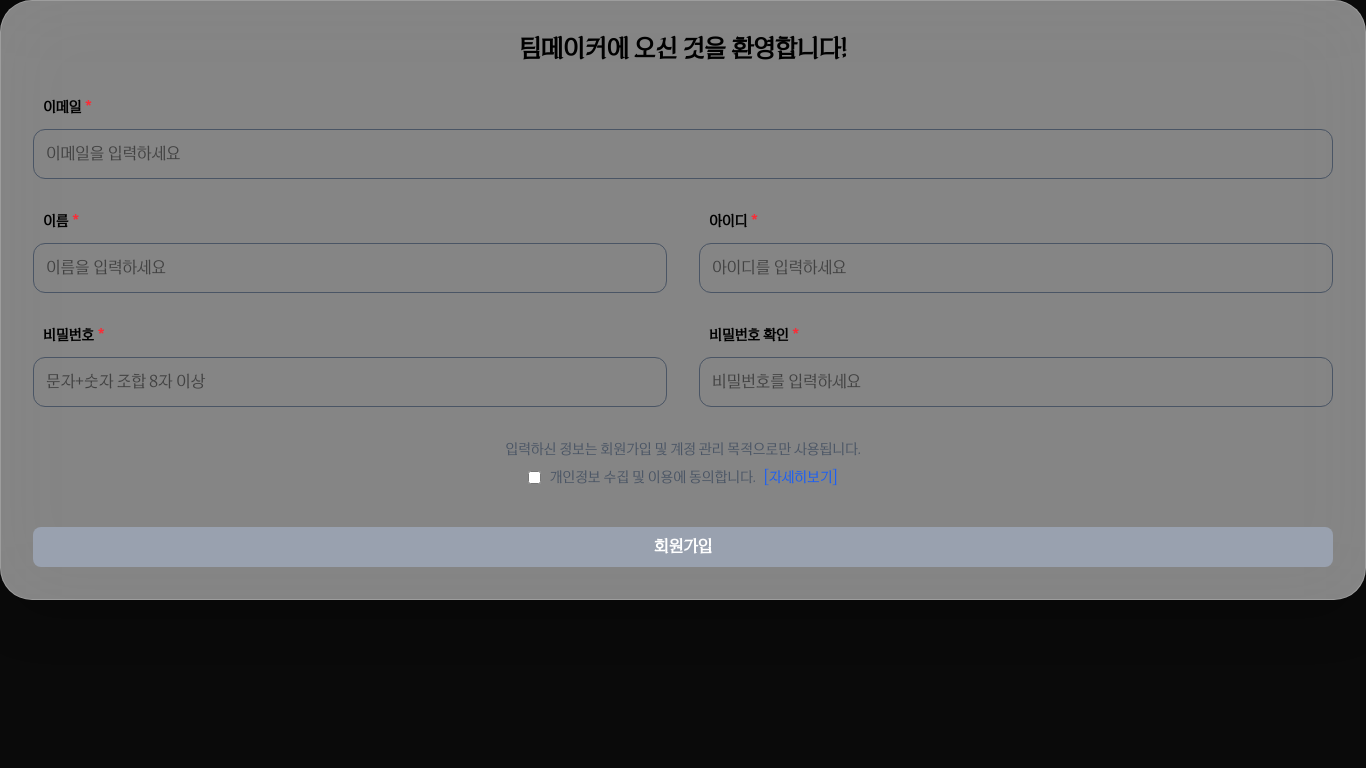
Test: SignUp Component › 잘못된 이메일 형식에 에러 메시지가 표시되어야 한다
The image size is (1366, 768).
Note: @ 포함하지만 형식이 잘못된 이메일 사용 (HTML5 validation 통과, pattern validation 실패)
Step 1. Type "invalid@email" into the field with placeholder "이메일을 입력하세요" → (683, 154), box x1=33 y1=129 x2=1333 y2=179
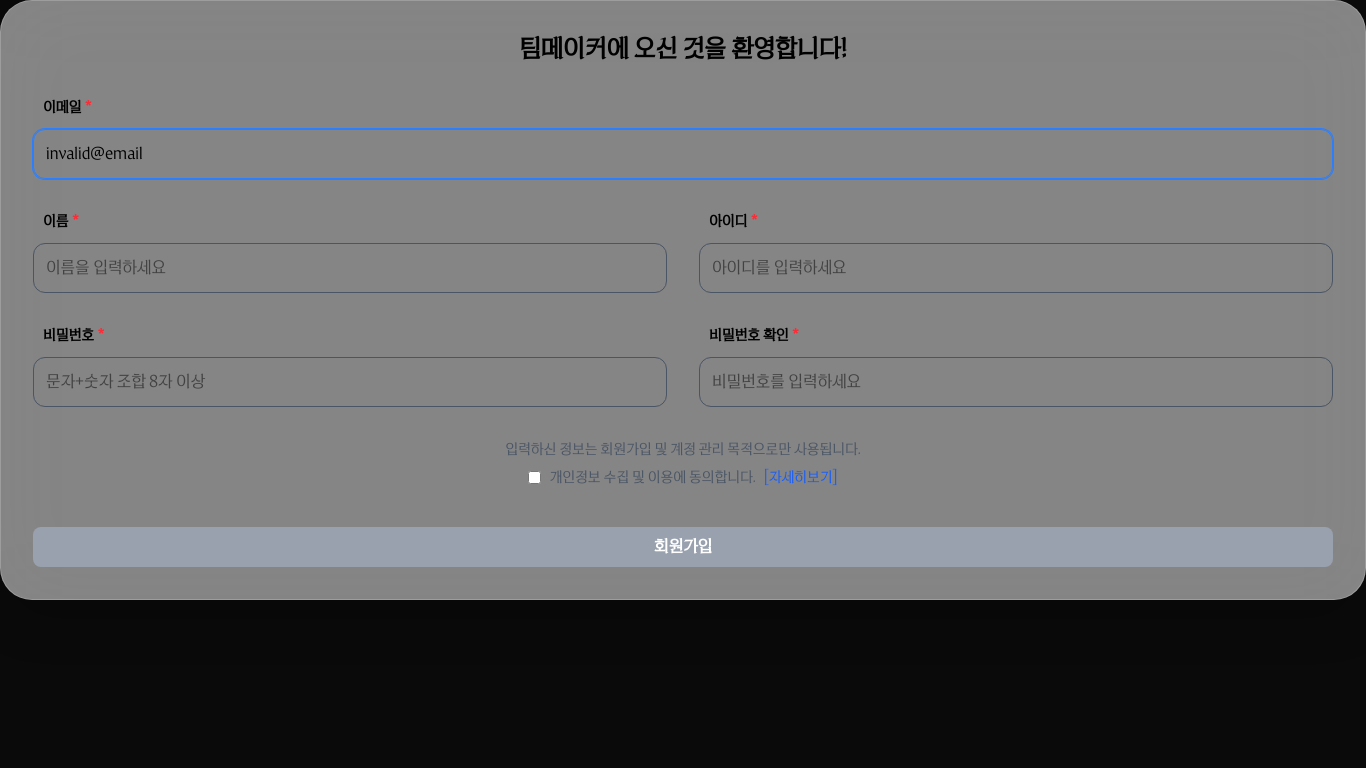
Note: 체크박스 체크 및 제출
Step 2. Click the checkbox → (535, 477), box x1=528 y1=470 x2=542 y2=484
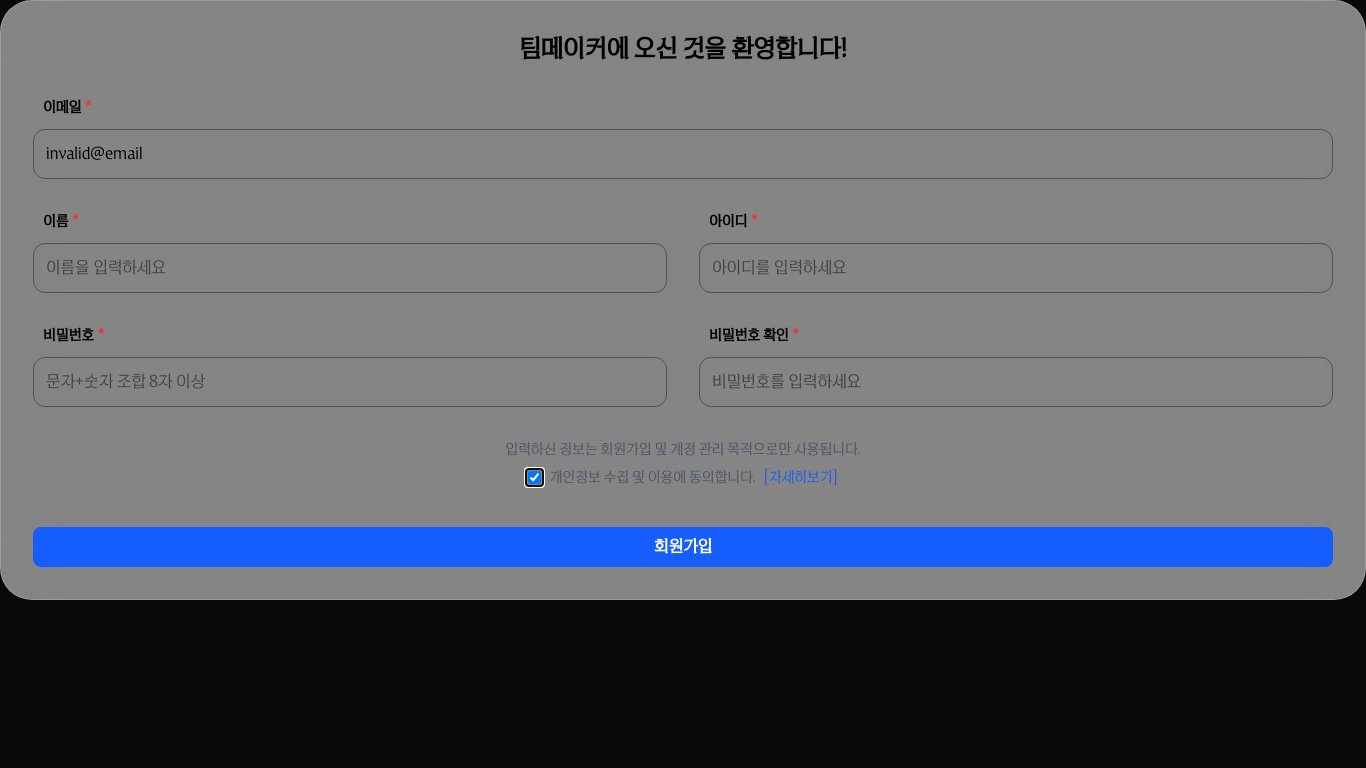
Step 3. Click the button "회원가입" → (683, 547), box x1=33 y1=527 x2=1333 y2=567
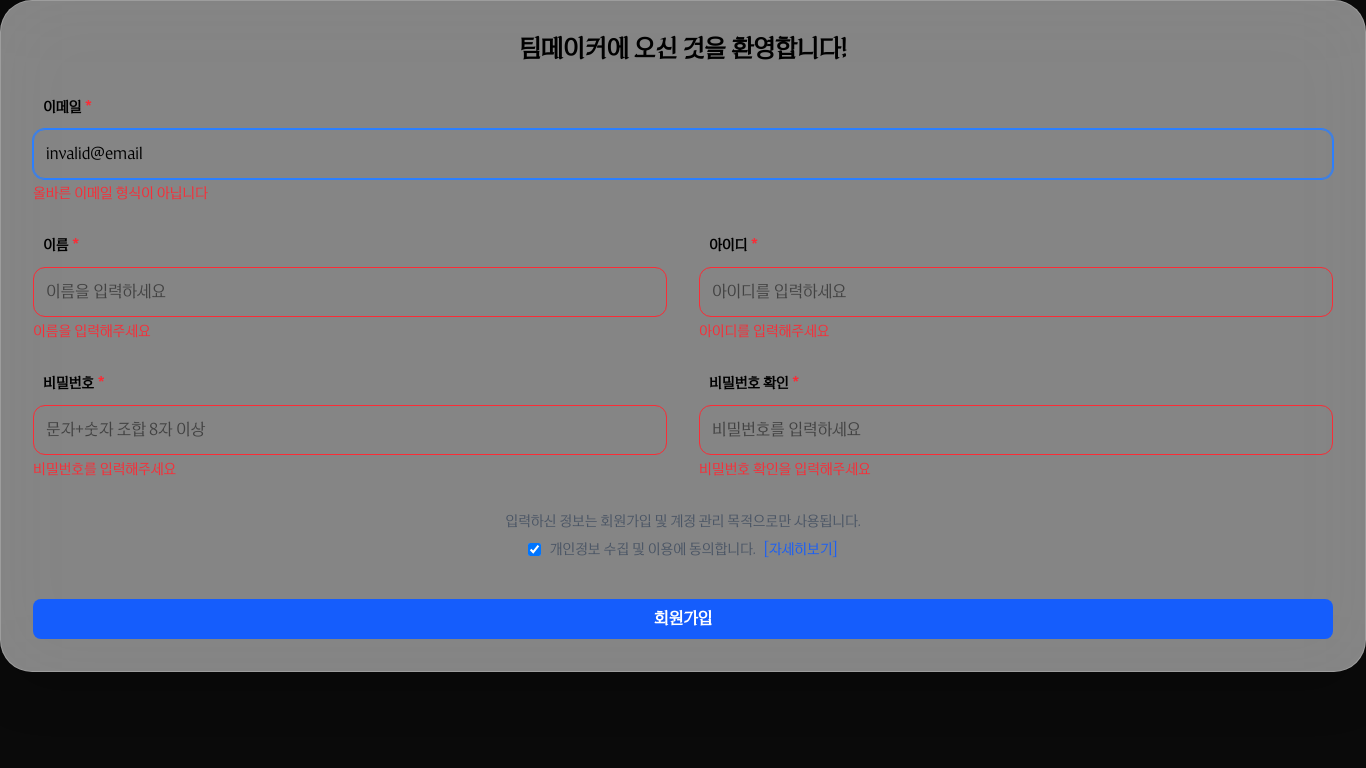
Check: the text "올바른 이메일 형식이 아닙니다" is shown, box x1=33 y1=184 x2=208 y2=202
